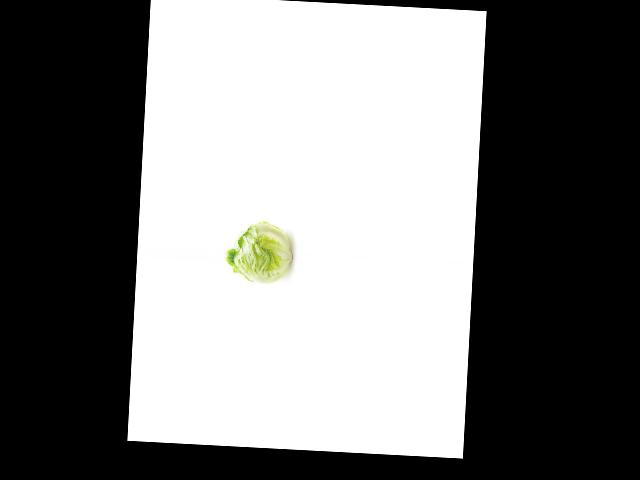lettuce: (223, 214, 297, 287)
